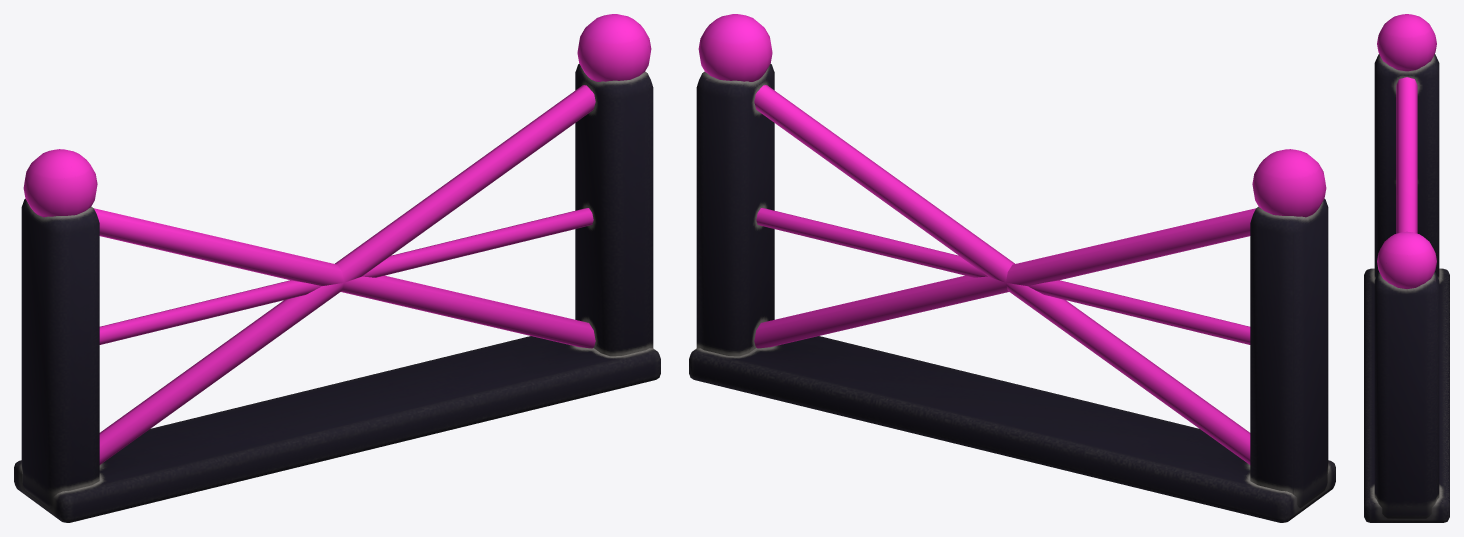
Rendered from rn_obstacle_laser_low.fbx.
3 views of the same model, side by side, from view 1: azimuth 30°, elevation 25°; view 2: azimuth 150°, elevation 25°; view 3: azimuth 270°, elevation 25° (orthographic). The views are drawn at different scales.
Visible parts, largest first — view 1: rn_obstacle_laser_low; view 2: rn_obstacle_laser_low; view 3: rn_obstacle_laser_low.
Boxes of the visible parts, box(x1,y1,x2,y2) form: rn_obstacle_laser_low: box(14, 14, 660, 522); rn_obstacle_laser_low: box(689, 14, 1335, 522); rn_obstacle_laser_low: box(1364, 14, 1449, 522).
Bounding box in the file's own units: 2.68 × 1.45 × 0.4.
2 materials, 2 textured.
